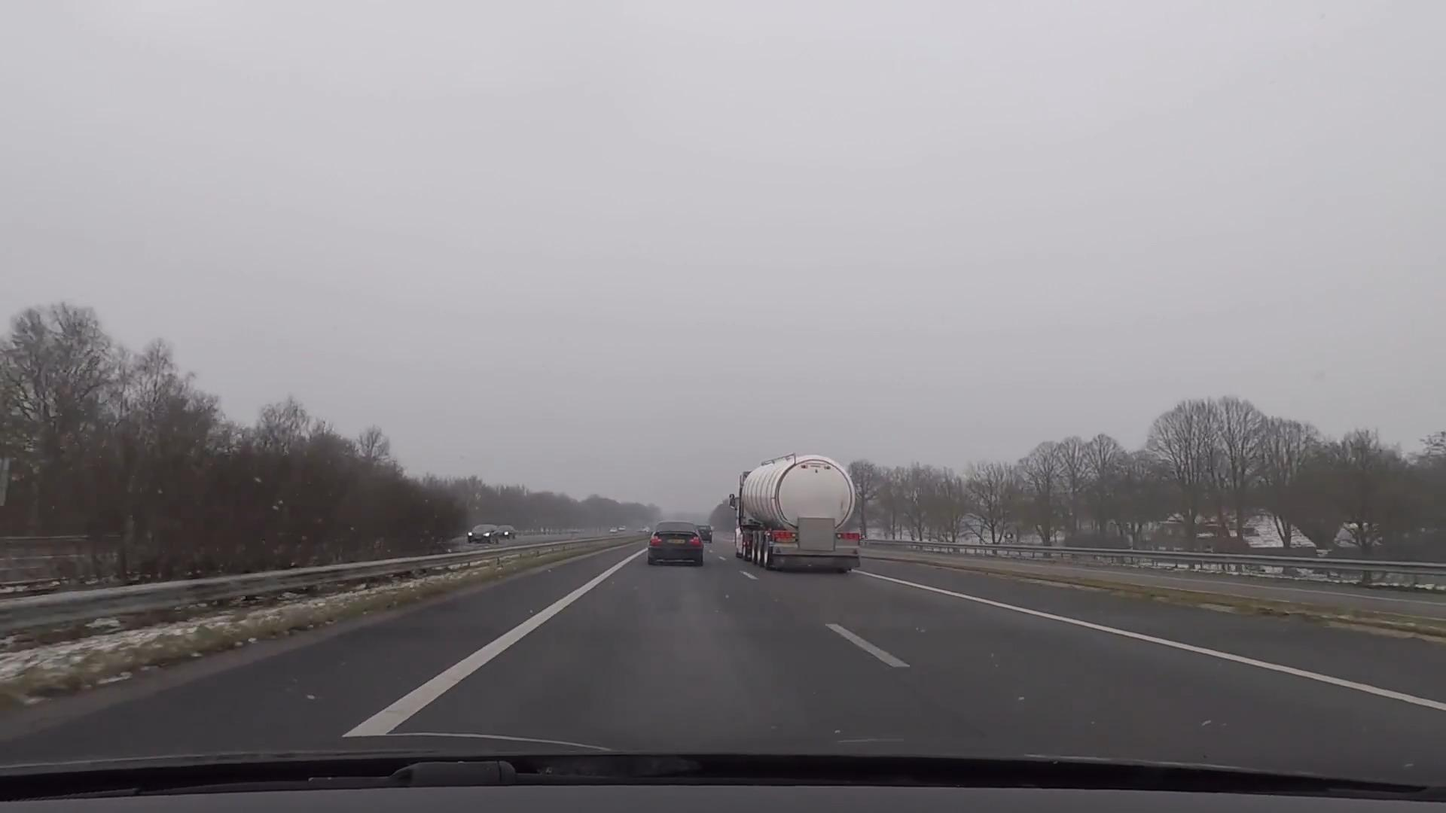dry: (2, 531, 1444, 772)
